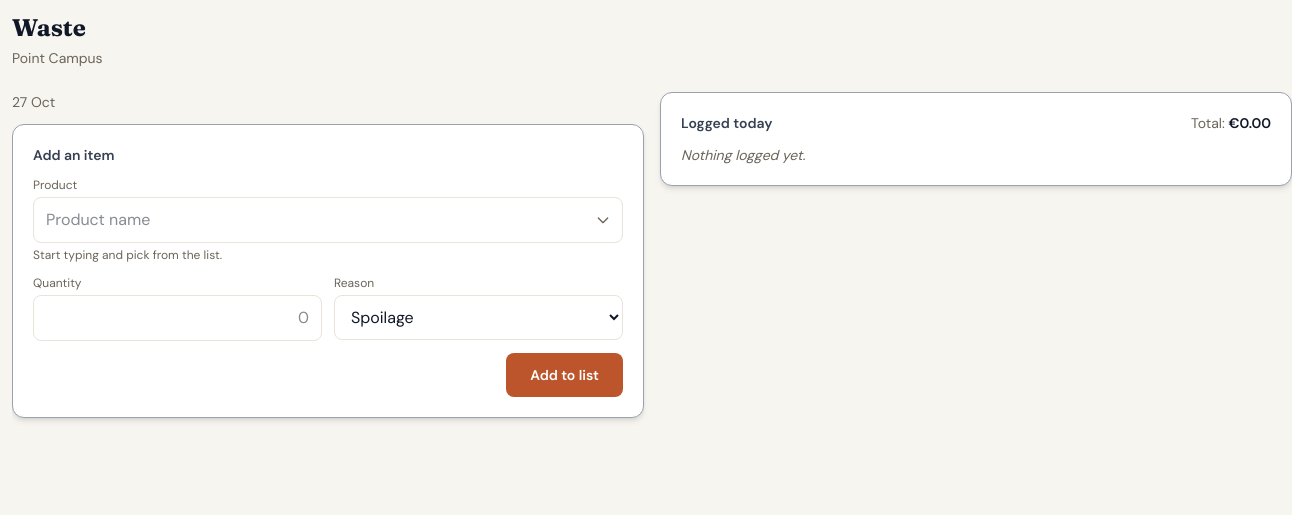
Test case: an employee logging a MIX › says the entry is saved without a value, not that it gets one later
Type "House Salsa" into the dropdown with placeholder "Product name" at (328, 220), box [33,197,623,243]
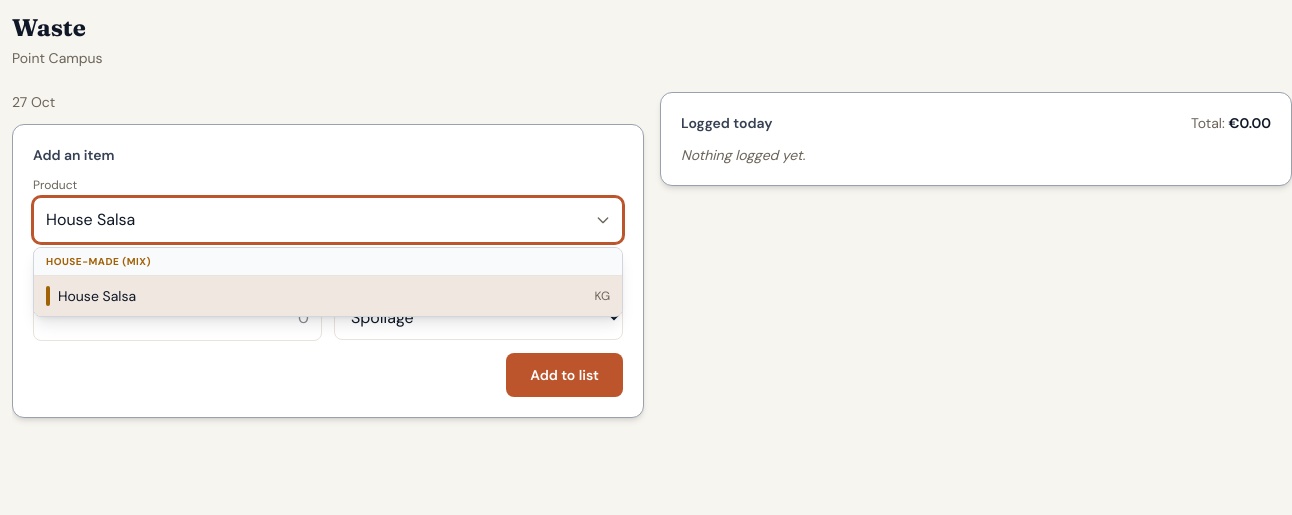
Click the option "House Salsa KG" at (97, 296), box [34,276,622,316]
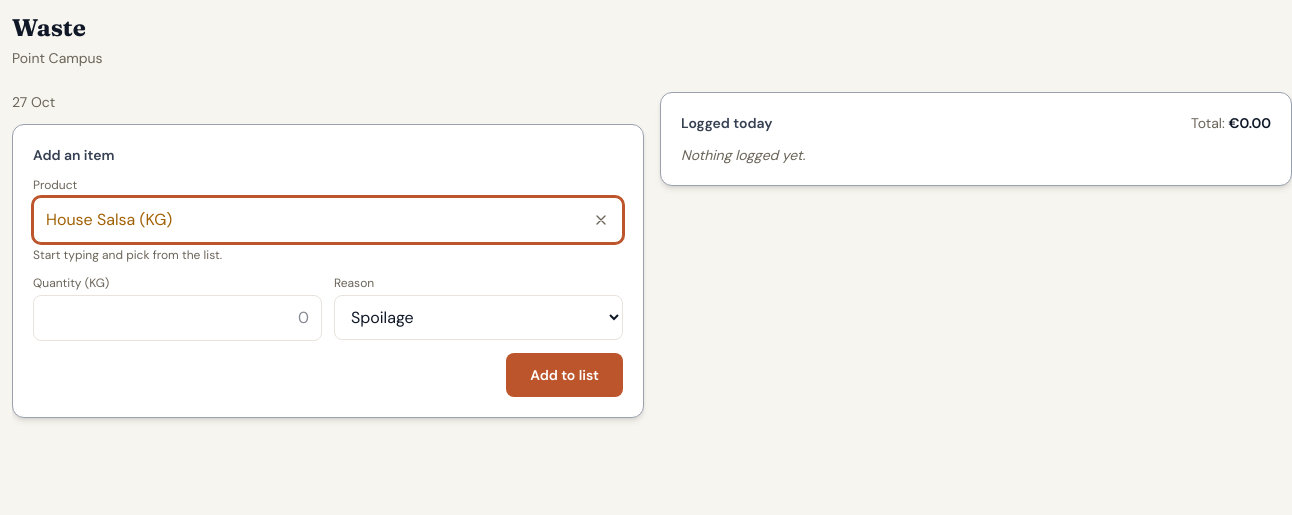
Type "2" into the field with placeholder "0" at (178, 318), box [33,295,322,341]
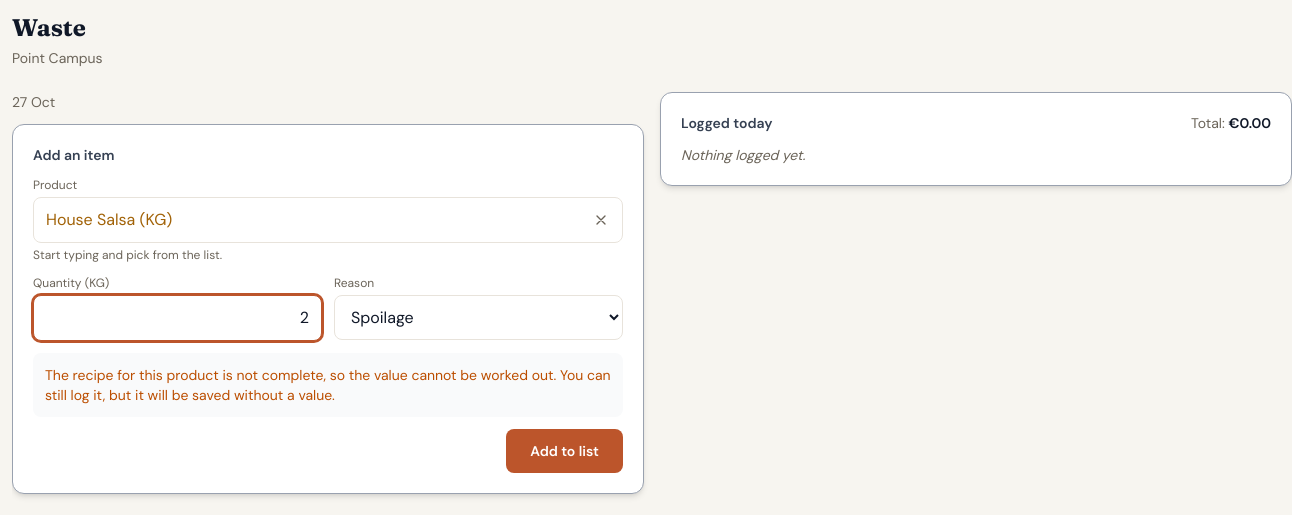
Now the text "saved without a value" is shown, box [45,366,611,404]
